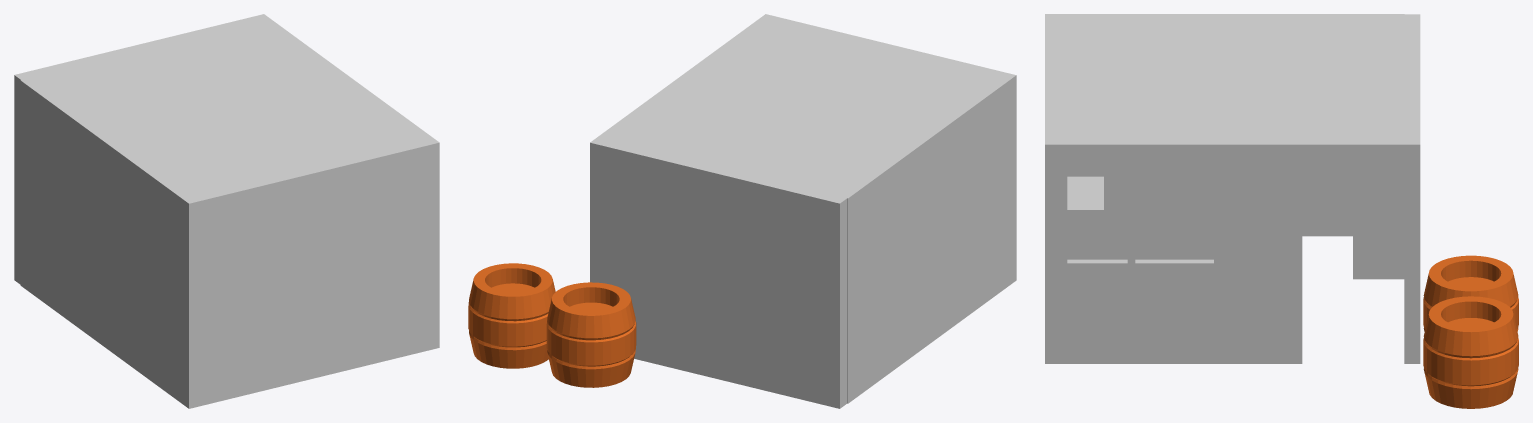
File: House2.glb
The picture shows the model from 3 angles, left to right: view 1: azimuth 30°, elevation 25°; view 2: azimuth 150°, elevation 25°; view 3: azimuth 270°, elevation 25°; orthographic projection. The views are drawn at different scales.
Parts seen in each view (by area): view 1: Cube.006; view 2: Cube.006, Cylinder.013, Cylinder.012; view 3: Cube.006, Cylinder.012, Cylinder.013.
Boxes of the visible parts, <box> form: Cube.006: <box>14,14,439,408</box>; Cube.006: <box>590,14,1016,408</box>; Cylinder.013: <box>546,282,636,387</box>; Cylinder.012: <box>468,263,555,368</box>; Cube.006: <box>1045,14,1420,363</box>; Cylinder.012: <box>1423,296,1518,408</box>; Cylinder.013: <box>1423,255,1518,331</box>.
Bounding box in the file's own units: 2.44 × 1.4 × 2.74.
